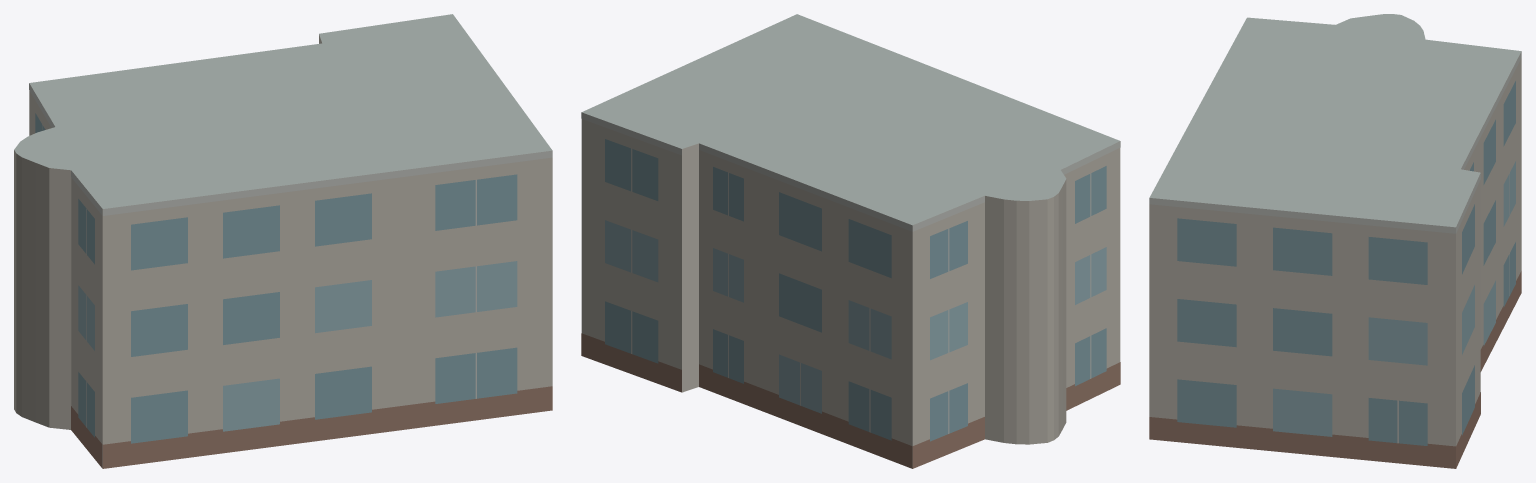
File: survey-upis-32886821.glb
The picture shows the model from 3 angles, left to right: view 1: azimuth 30°, elevation 25°; view 2: azimuth 150°, elevation 25°; view 3: azimuth 270°, elevation 25°; orthographic projection. The views are drawn at different scales.
Visible parts, largest first — view 1: survey-upis-32886821.tmp; view 2: survey-upis-32886821.tmp; view 3: survey-upis-32886821.tmp.
Part boxes in pixels (x1=…): survey-upis-32886821.tmp: x1=14, y1=14, x2=552, y2=468; survey-upis-32886821.tmp: x1=581, y1=14, x2=1120, y2=468; survey-upis-32886821.tmp: x1=1149, y1=14, x2=1521, y2=468.
Size of the model in its own units: 17.25 by 9.1 by 12.72.
